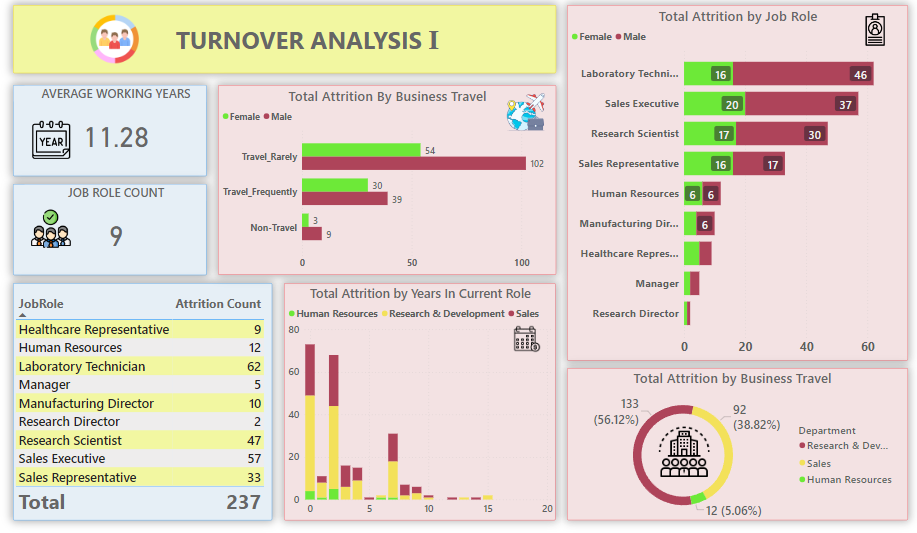

The dashboard page shown, as its layout file describes it:
{"tool":"powerbi","page":{"name":"Page 3","canvas":[1650,960],"ordinal":2},"visuals":[{"type":"textbox","box":[25.9,13,970.4,122.2],"z":0},{"type":"card","title":"AVERAGE WORKING YEARS","fields":{"Values":["Avg(HR-Employee-Attrition.TotalWorkingYears)"]},"box":[25.9,155.6,346.3,163],"z":1000},{"type":"card","title":"JOB ROLE COUNT","fields":{"Values":["Count(HR-Employee-Attrition.JobRole)"]},"box":[25.9,331.5,346.3,163],"z":2000},{"type":"image","box":[74.1,24.1,268.5,100],"z":3000},{"type":"image","box":[40.7,214.8,107.4,77.8],"z":4000},{"type":"image","box":[40.7,372.2,107.4,81.5],"z":5000},{"type":"tableEx","fields":{"Values":["HR-Employee-Attrition.JobRole","Sum(HR-Employee-Attrition.Attrition Count)"]},"box":[25.9,509.3,463,424.1],"z":6000},{"type":"barChart","title":"Total Attrition by Job Role","fields":{"Y":["Sum(HR-Employee-Attrition.Attrition Count)"],"Category":["HR-Employee-Attrition.JobRole"],"Series":["HR-Employee-Attrition.Gender"]},"box":[1016.7,13,609.3,635.2],"z":7000},{"type":"columnChart","title":"Total Attrition by Years In Current Role","fields":{"Category":["HR-Employee-Attrition.YearsInCurrentRole"],"Y":["Sum(HR-Employee-Attrition.Attrition Count)"],"Series":["HR-Employee-Attrition.Department"]},"box":[511.1,509.3,485.2,424.1],"z":8000},{"type":"clusteredBarChart","title":"Total Attrition By Business Travel","fields":{"Category":["HR-Employee-Attrition.BusinessTravel"],"Y":["Sum(HR-Employee-Attrition.Attrition Count)"],"Series":["HR-Employee-Attrition.Gender"]},"box":[392.6,155.6,603.7,338.9],"z":9000},{"type":"donutChart","title":"Total Attrition by Business Travel ","fields":{"Category":["HR-Employee-Attrition.Department"],"Y":["Sum(HR-Employee-Attrition.Attrition Count)"]},"box":[1016.7,661.1,609.3,272.2],"z":10000},{"type":"image","box":[1177.8,759.3,92.6,101.9],"z":11000},{"type":"image","box":[1514.8,22.2,103.7,70.4],"z":12000},{"type":"image","box":[903.7,164.8,77.8,77.8],"z":13000},{"type":"image","box":[907.4,579.6,74.1,57.4],"z":14000}]}

Visuals, with their boxes in screenshot pixels (x1, y1, x2, y2), scaled from the page's 1650x960 canvas onto the 917x533 screenshot:
textbox: 14/7/554/75
"AVERAGE WORKING YEARS" card: 14/86/207/177
"JOB ROLE COUNT" card: 14/184/207/275
image: 41/13/190/69
image: 23/119/82/162
image: 23/207/82/252
tableEx - HR-Employee-Attrition.JobRole x Sum(HR-Employee-Attrition.Attrition Count): 14/283/272/518
"Total Attrition by Job Role" barChart: 565/7/904/360
"Total Attrition by Years In Current Role" columnChart: 284/283/554/518
"Total Attrition By Business Travel" clusteredBarChart: 218/86/554/275
"Total Attrition by Business Travel " donutChart: 565/367/904/518
image: 655/422/706/478
image: 842/12/899/51
image: 502/91/545/135
image: 504/322/545/354
